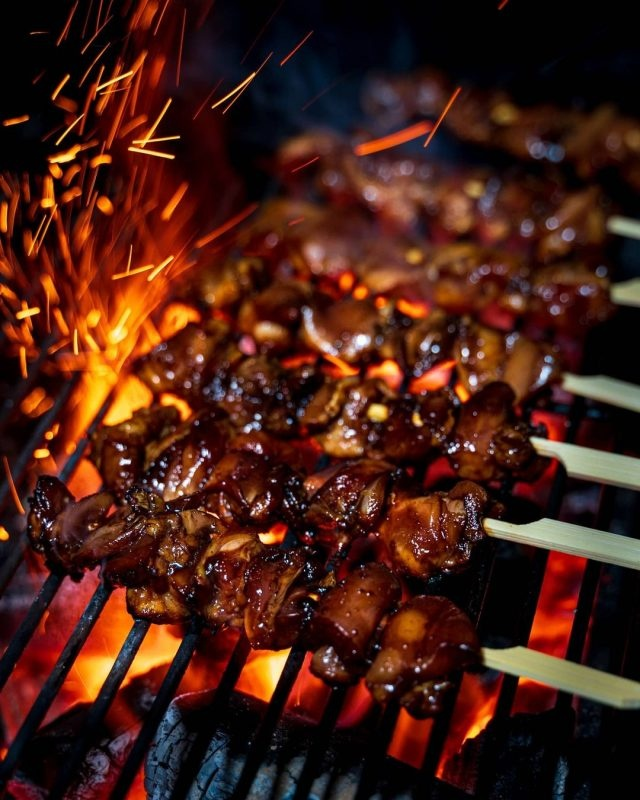sate_madura: (28, 96, 640, 713)
